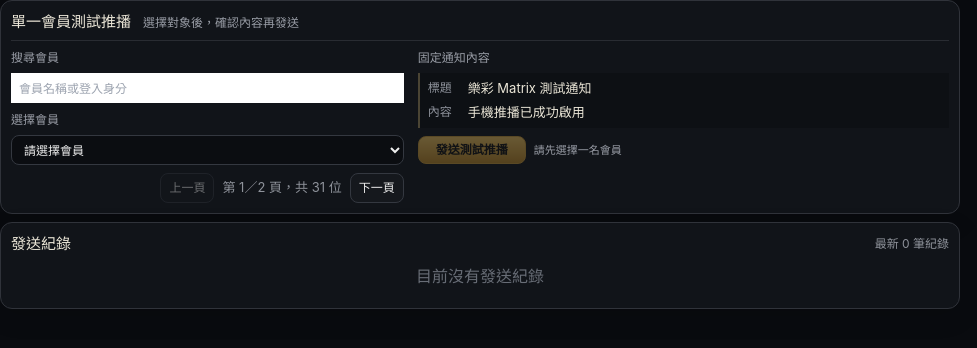
Scenario: NotificationManagement › debounces name search, ignores stale pages and clears search immediately
Click the button "下一頁" at [377, 188], box [350,173,404,203]
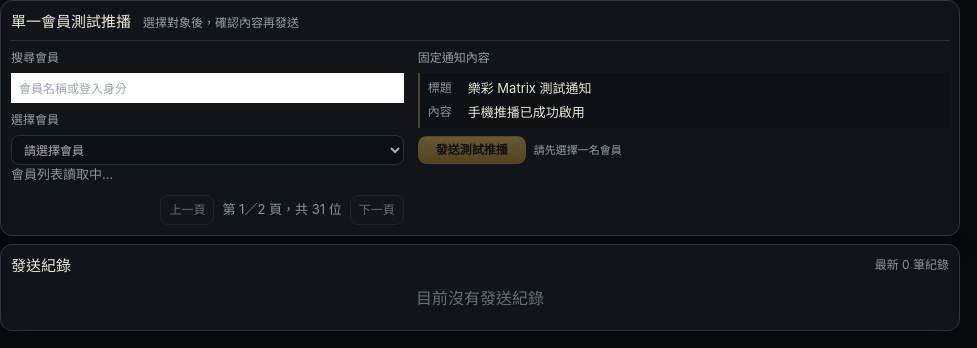
Type "Google" into the search field labelled "搜尋會員" at [207, 88], box [11,73,404,103]
Wait 300 ms
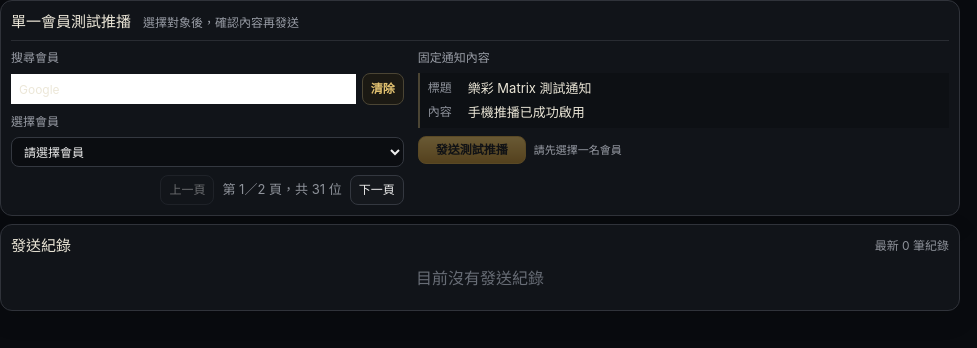
Click the button with aria-label "清除會員搜尋" at [383, 89], box [362,73,404,105]
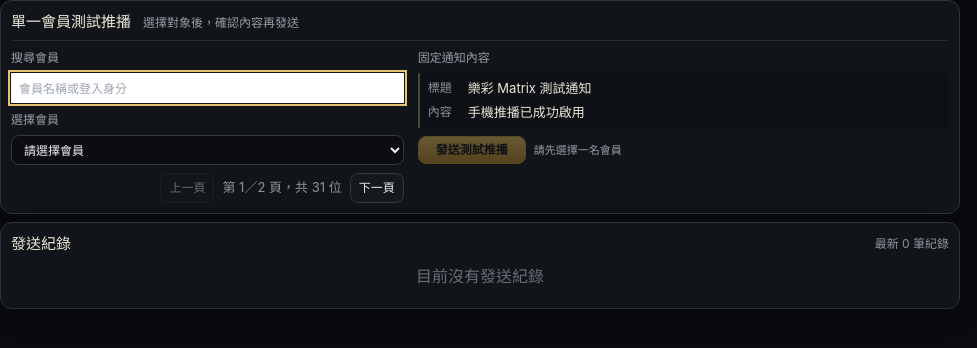
Check: the search field labelled "搜尋會員" is empty, box [11,73,404,103]
